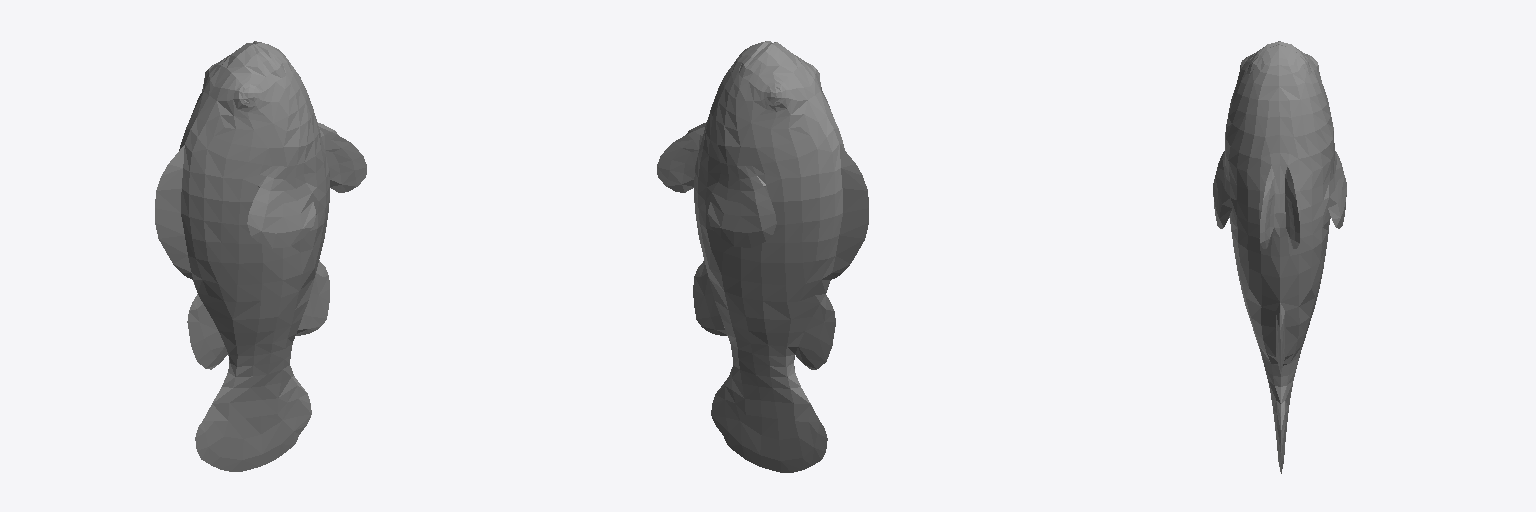
The model's file is clownfish.obj.
3 views of the same model, side by side, from view 1: azimuth 30°, elevation 25°; view 2: azimuth 150°, elevation 25°; view 3: azimuth 270°, elevation 25° (orthographic).
Parts seen in each view (by area): view 1: clownfish_meshId0_name; view 2: clownfish_meshId0_name; view 3: clownfish_meshId0_name.
Boxes of the visible parts, x1=… form: clownfish_meshId0_name: x1=155, y1=41, x2=366, y2=471; clownfish_meshId0_name: x1=657, y1=41, x2=868, y2=472; clownfish_meshId0_name: x1=1213, y1=41, x2=1346, y2=473.
Bounding box in the file's own units: 0.7207 × 1.45 × 0.4153.